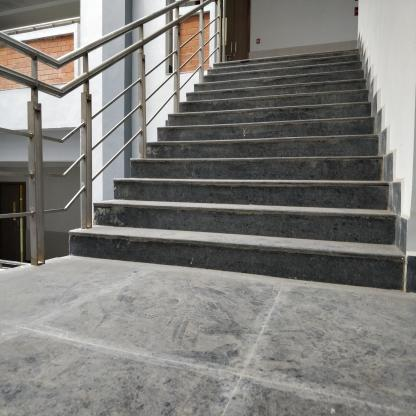stairs: (226, 58, 362, 294)
